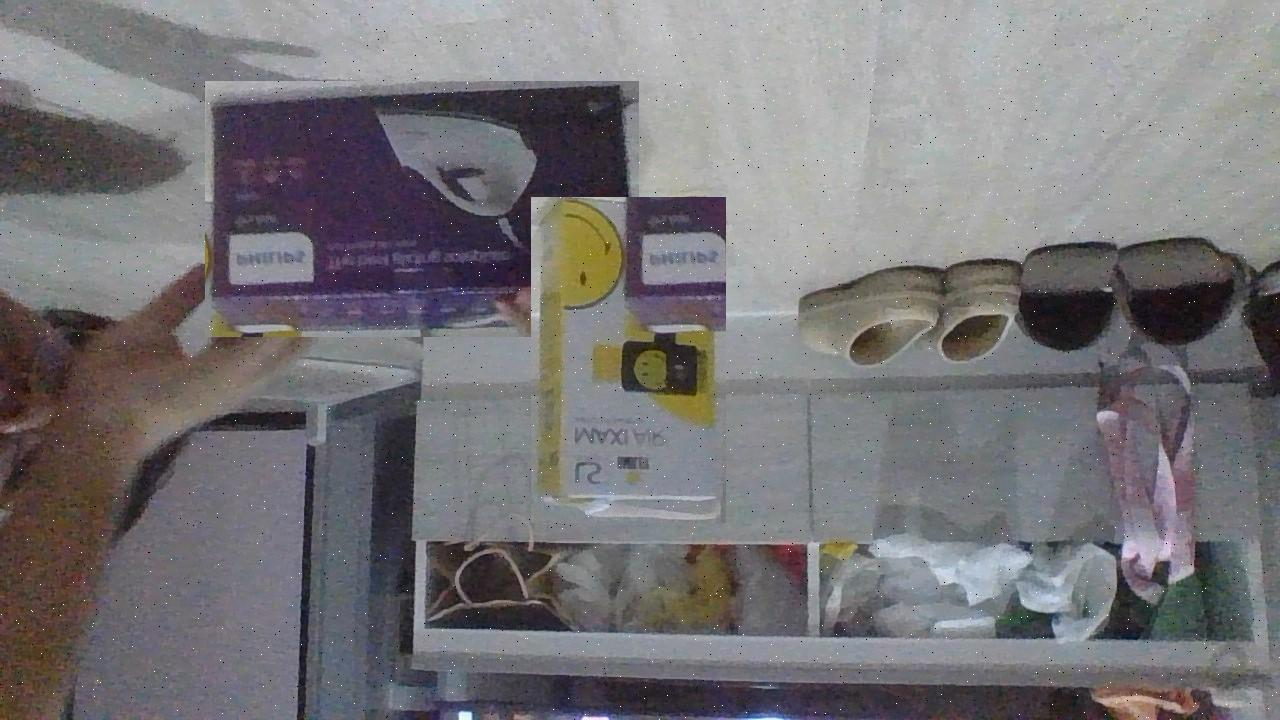Dryer: (531, 197, 726, 523)
IRON: (205, 81, 639, 337)
